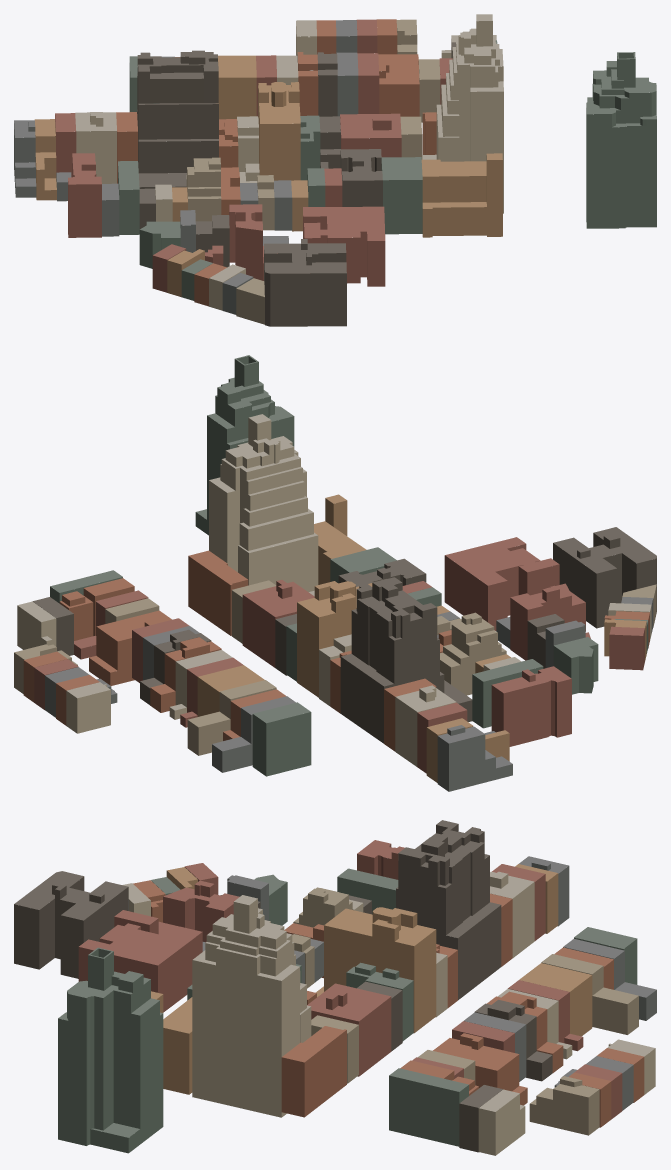
The model's file is tile--2_-5.glb.
3 views of the same model, one above another, from view 1: azimuth 30°, elevation 25°; view 2: azimuth 150°, elevation 25°; view 3: azimuth 270°, elevation 25° (orthographic). The views are drawn at different scales.
Visible parts, largest first — view 1: wall, roof; view 2: wall, roof; view 3: wall, roof.
Part boxes in pixels (x1,y1,x2,y2): wall: [14, 21, 656, 326]; roof: [14, 14, 656, 296]; wall: [14, 356, 656, 791]; roof: [14, 355, 656, 768]; wall: [14, 824, 656, 1155]; roof: [14, 820, 656, 1137].
Bounding box in the file's own units: 209 × 73.61 × 215.
